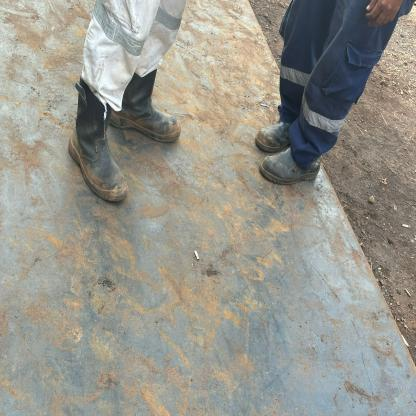bota: (68, 80, 134, 203), (116, 66, 185, 149), (257, 146, 325, 186), (254, 112, 295, 154)
